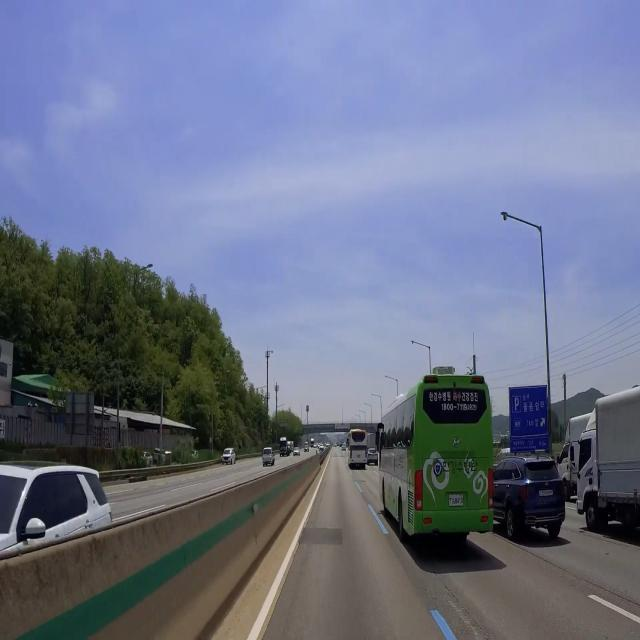car: (446, 494, 467, 511), (537, 488, 559, 501)
